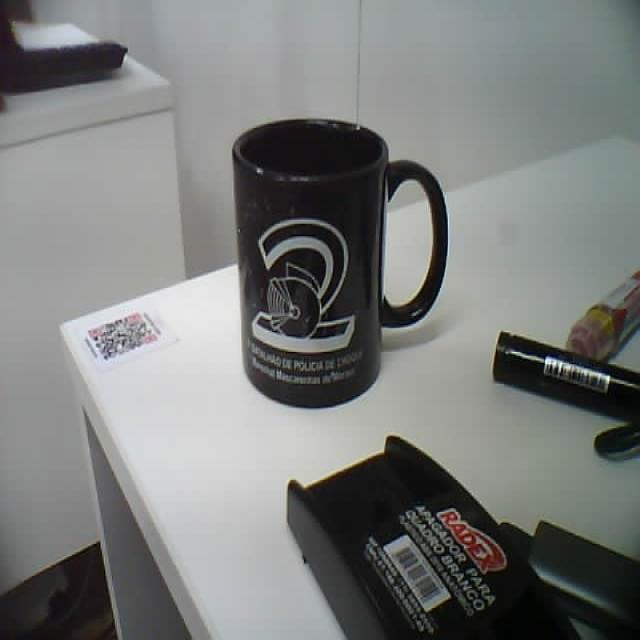caneca: (233, 120, 447, 407)
